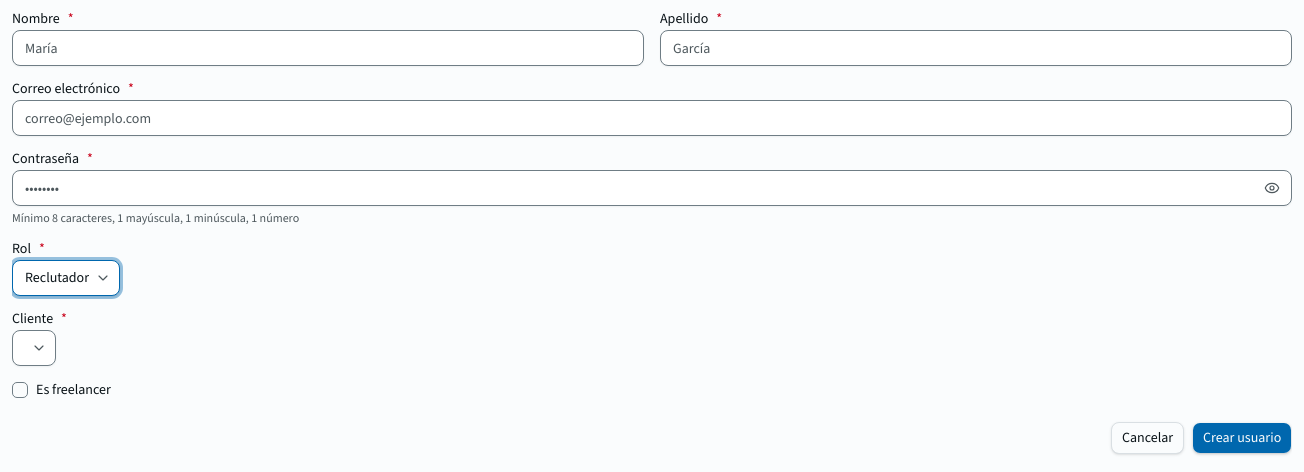
it: CreateUserForm — Cliente field visibility per role (US1 + US3) › HIDES the Cliente select when role is admin
Press Enter
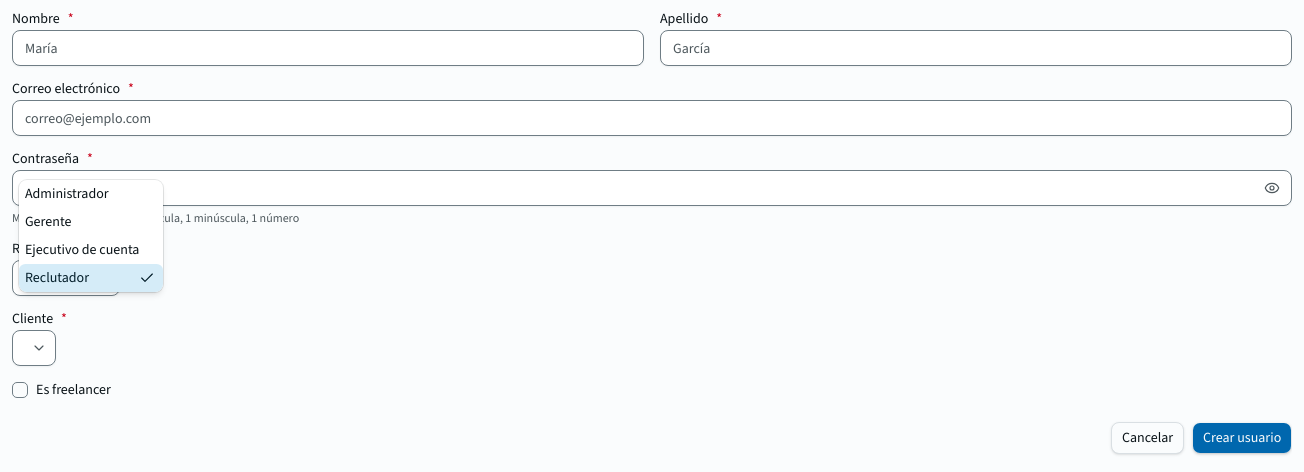
Click the option "Administrador": (67, 194) [25,184,109,203]
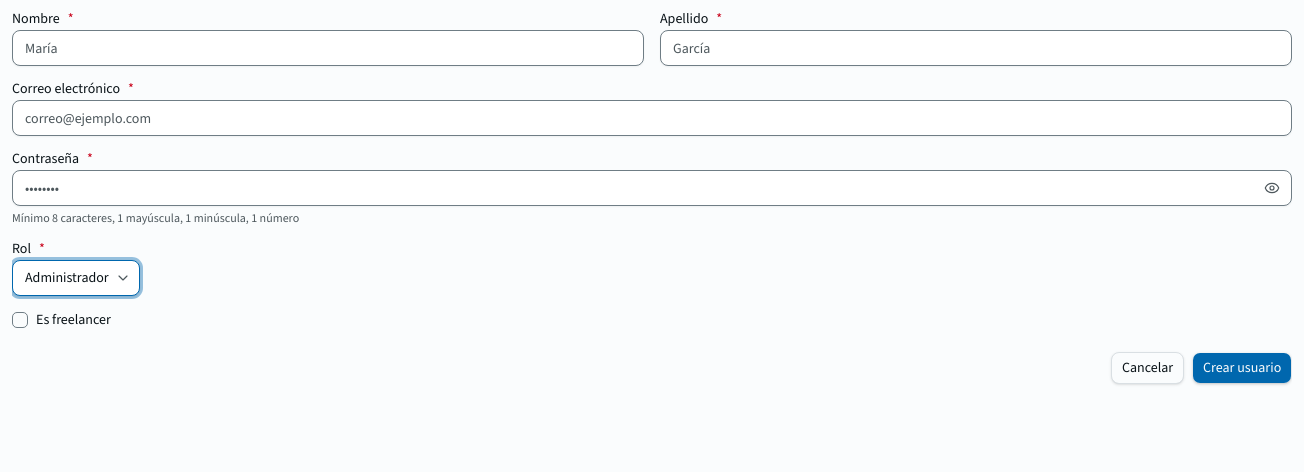
Now the dropdown with test id "select-rol" shows "Admin", box [12,260,140,296]
